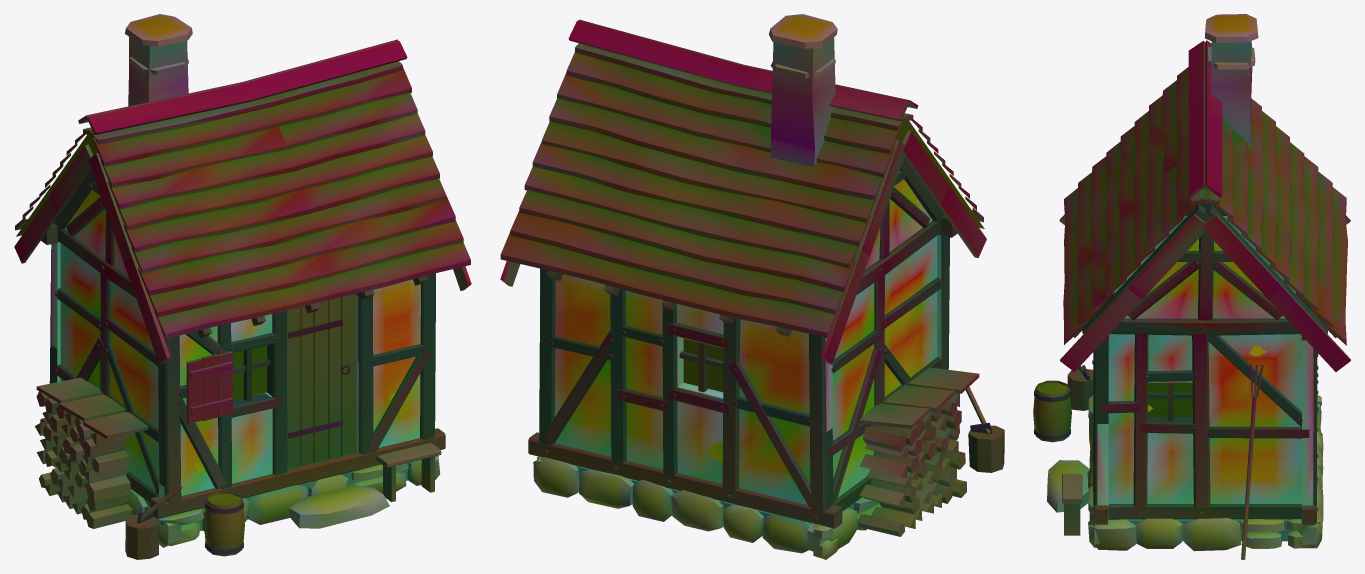
Rendered from hovel_b.glb.
3 views of the same model, side by side, from view 1: azimuth 30°, elevation 25°; view 2: azimuth 150°, elevation 25°; view 3: azimuth 270°, elevation 25° (orthographic). The views are drawn at different scales.
Visible parts, largest first — view 1: hovel_b_LOD0; view 2: hovel_b_LOD0; view 3: hovel_b_LOD0.
Boxes of the visible parts, <box> form: hovel_b_LOD0: <box>14,14,471,559</box>; hovel_b_LOD0: <box>500,14,1004,559</box>; hovel_b_LOD0: <box>1033,14,1350,559</box>.
Size of what is drawn, in the model's own units: 2.36 by 2.9 by 1.93.
